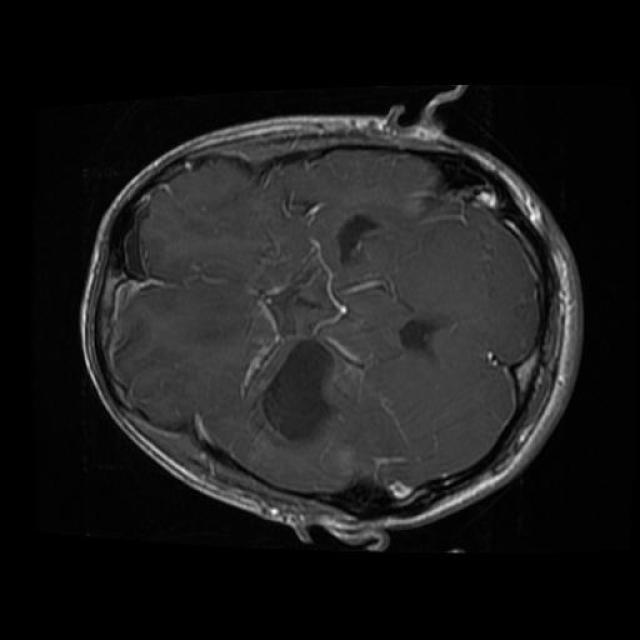Glioma: (263, 340, 333, 439)
